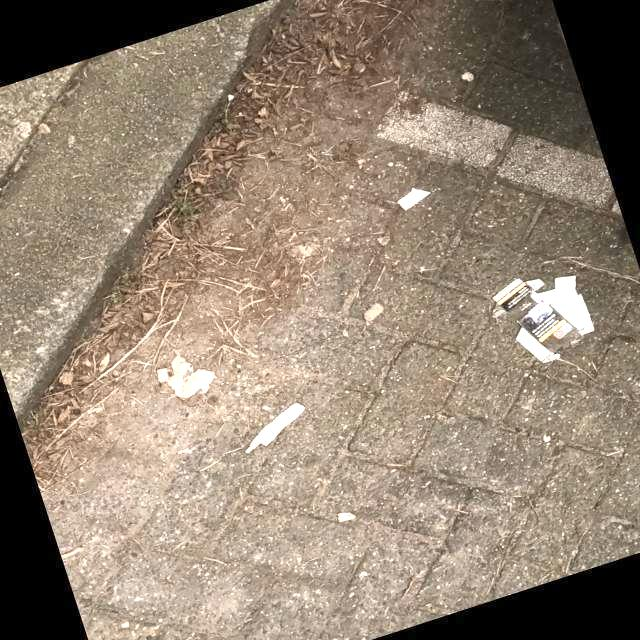Paper: (489, 273, 596, 365), (245, 400, 305, 454)
Plastic: (155, 350, 215, 400)
